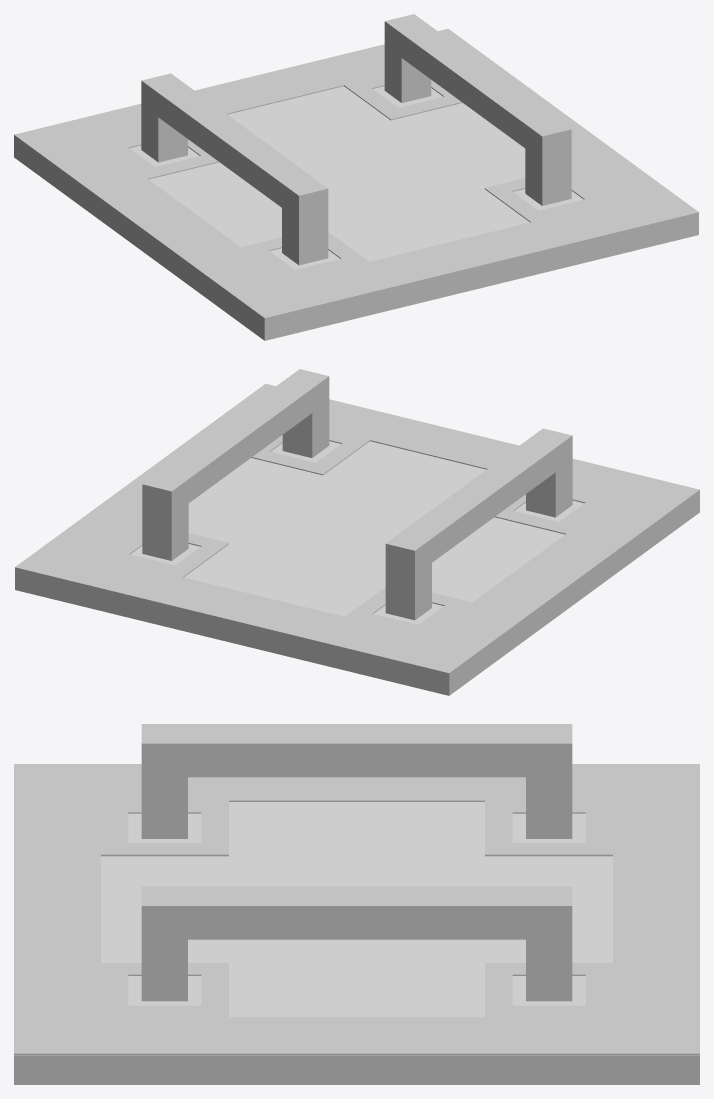
Rendered from FloorBrick_03.fbx.
3 views of the same model, one above another, from view 1: azimuth 30°, elevation 25°; view 2: azimuth 150°, elevation 25°; view 3: azimuth 270°, elevation 25° (orthographic). The views are drawn at different scales.
Parts seen in each view (by area): view 1: Cube, Cube.005; view 2: Cube, Cube.005; view 3: Cube, Cube.005.
Boxes of the visible parts, x1,y1,x2,y2 form: Cube: (14, 14, 698, 340); Cube.005: (129, 86, 699, 269); Cube: (15, 369, 699, 695); Cube.005: (14, 441, 584, 624); Cube: (14, 724, 699, 1084); Cube.005: (14, 802, 699, 1055).
Size of the model in its own units: 100 by 20.08 by 100.
2 materials, 1 textured.
